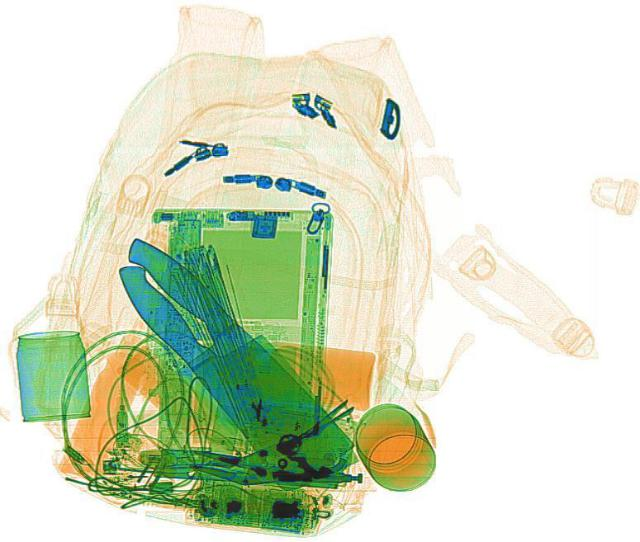Knife: (72, 224, 360, 490), (101, 234, 362, 493)
